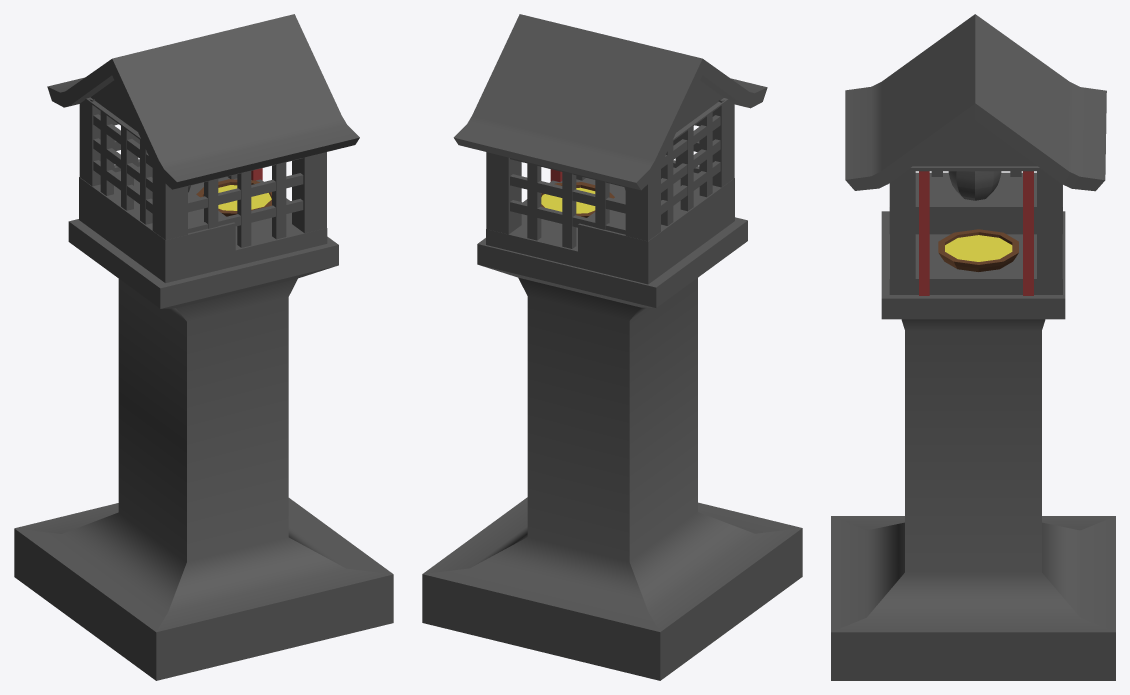
Rendered from lanternOff.fbx.
3 views of the same model, side by side, from view 1: azimuth 30°, elevation 25°; view 2: azimuth 150°, elevation 25°; view 3: azimuth 270°, elevation 25° (orthographic).
Parts seen in each view (by area): view 1: lantern1; view 2: lantern1; view 3: lantern1.
Boxes of the visible parts, box(x1,y1,x2,y2) form: lantern1: box(14, 14, 393, 680); lantern1: box(422, 14, 802, 680); lantern1: box(831, 14, 1115, 680).
Bounding box in the file's own units: 0.8333 × 1.89 × 0.8632.
